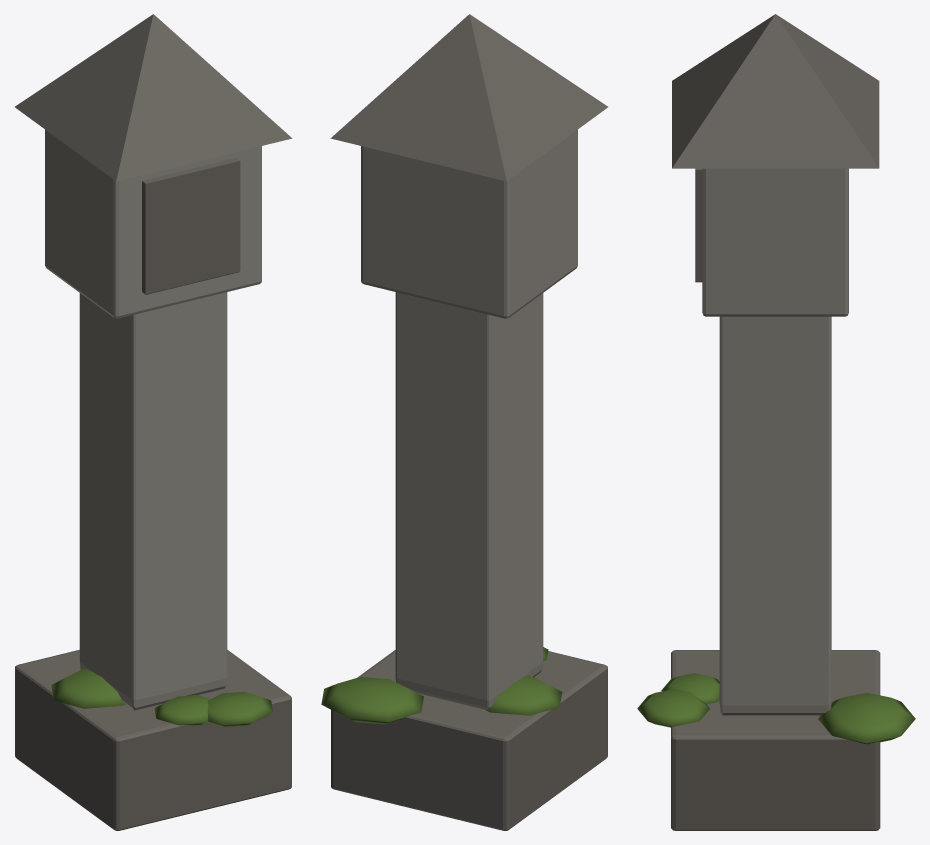
Rendered from bildstock.glb.
The picture shows the model from 3 angles, left to right: view 1: azimuth 30°, elevation 25°; view 2: azimuth 150°, elevation 25°; view 3: azimuth 270°, elevation 25°; orthographic projection.
Parts seen in each view (by area): view 1: Cube; view 2: Cube; view 3: Cube.
Part boxes in pixels (x1,y1,x2,y2): Cube: [15, 14, 292, 830]; Cube: [321, 14, 607, 830]; Cube: [637, 14, 915, 830].
Size of the model in its own units: 0.6583 by 2.44 by 0.798.
